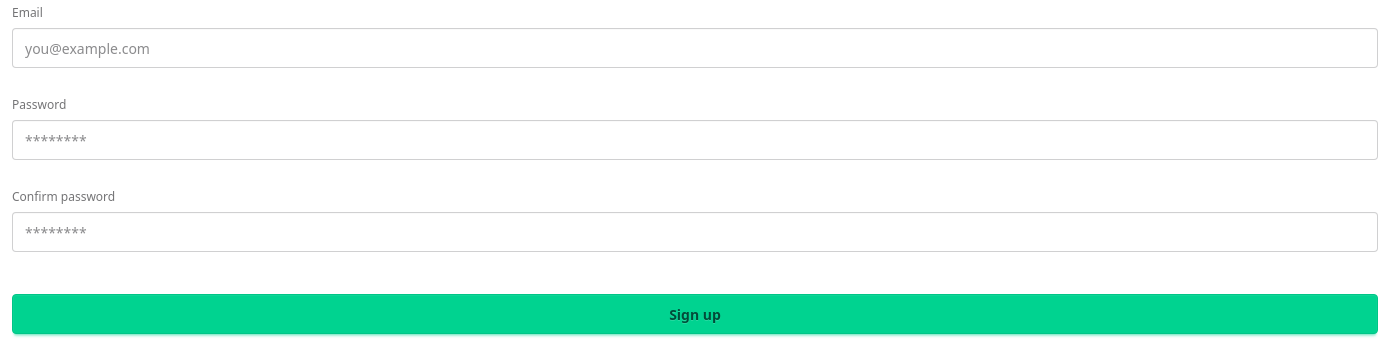
it: SignUp Component › should show validation errors if fields are empty
Click the button "Sign up". click: click(695, 314)
box: [12, 294, 1378, 334]
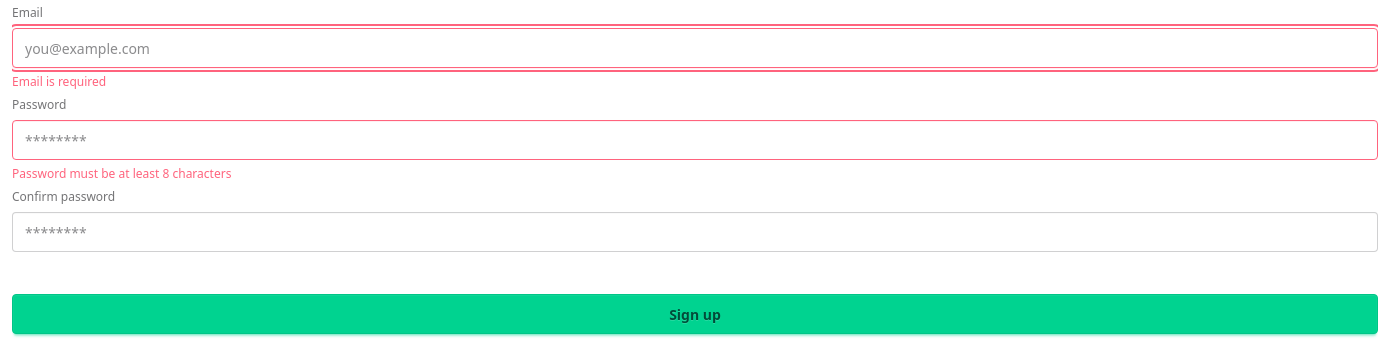
Now the text "Email is required" is shown, box [12, 73, 106, 90]
Now the text "Password must be at least 8 characters" is shown, box [12, 165, 231, 182]
